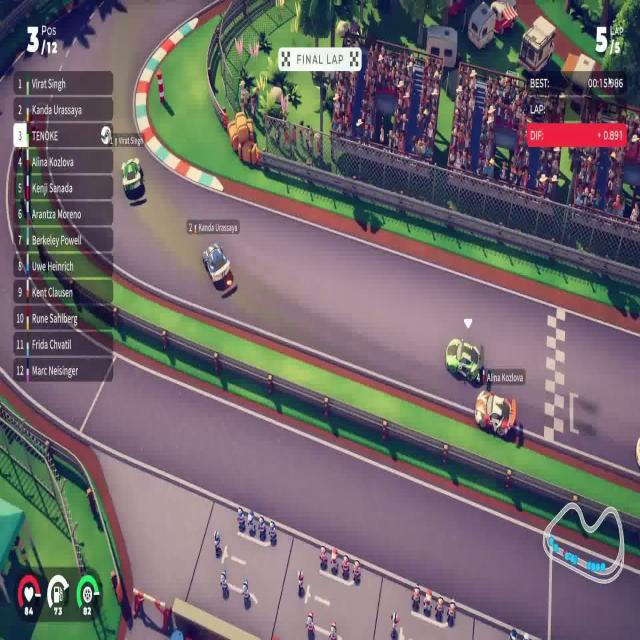car: (474, 387, 516, 438), (444, 336, 481, 382), (202, 242, 232, 286), (120, 156, 145, 199)
